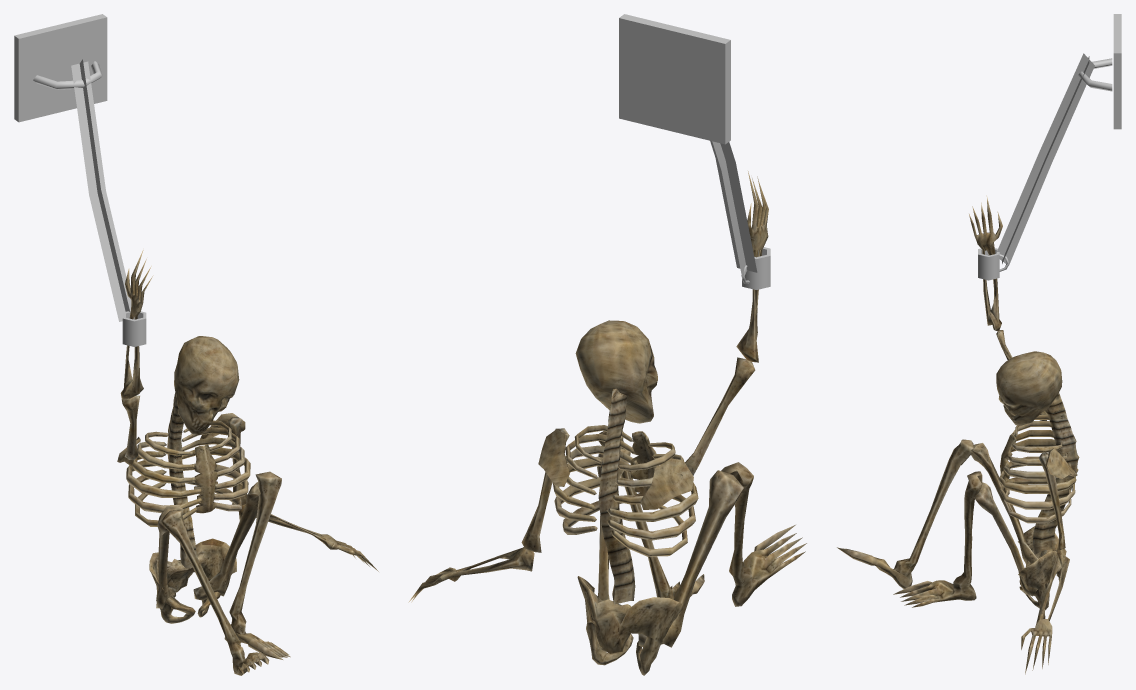
Rendered from Prop2Updare.FBX.
The picture shows the model from 3 angles, left to right: view 1: azimuth 30°, elevation 25°; view 2: azimuth 150°, elevation 25°; view 3: azimuth 270°, elevation 25°; orthographic projection. The views are drawn at different scales.
Parts seen in each view (by area): view 1: Torus02; view 2: Torus02; view 3: Torus02.
Boxes of the visible parts, <box> form: Torus02: <box>14,14,378,675</box>; Torus02: <box>408,14,806,675</box>; Torus02: <box>837,14,1121,674</box>.
Bounding box in the file's own units: 17.63 × 31.5 × 15.33.
